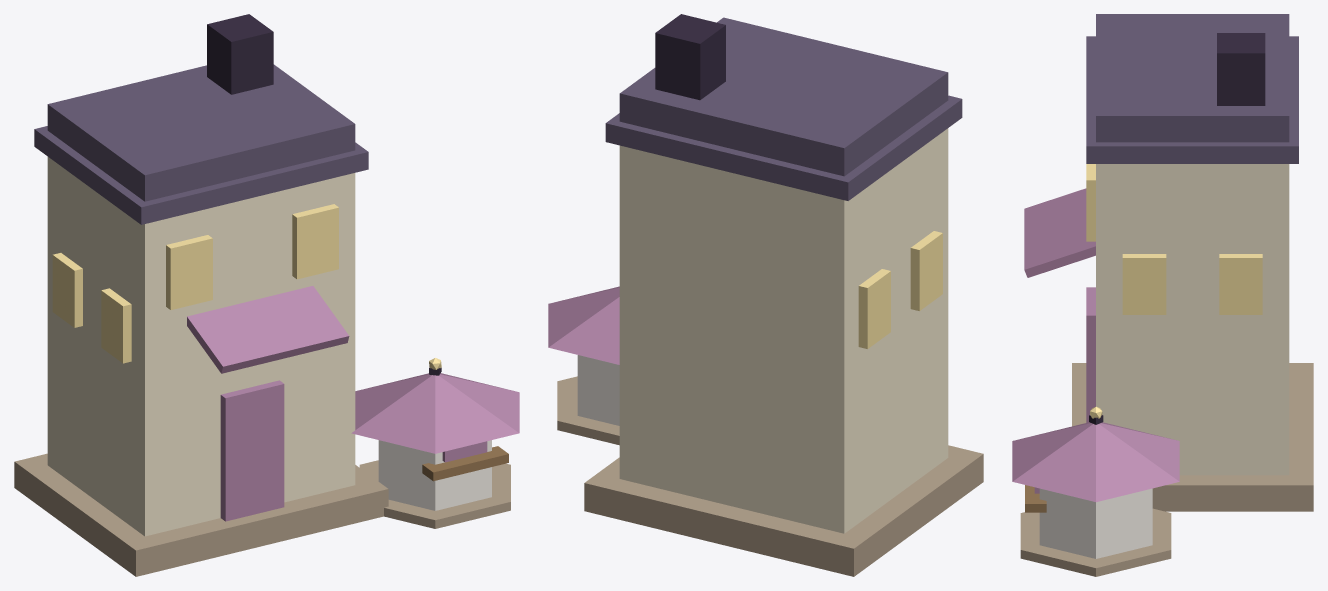
The model's file is city-landmark-s2b.glb.
3 views of the same model, side by side, from view 1: azimuth 30°, elevation 25°; view 2: azimuth 150°, elevation 25°; view 3: azimuth 270°, elevation 25° (orthographic). The views are drawn at different scales.
Parts seen in each view (by area): view 1: city-landmark-s2b; view 2: city-landmark-s2b; view 3: city-landmark-s2b.
Part boxes in pixels (<box>): city-landmark-s2b: <box>14,14,519,576</box>; city-landmark-s2b: <box>548,14,983,576</box>; city-landmark-s2b: <box>1012,14,1313,576</box>.
Bounding box in the file's own units: 0.94 × 1 × 0.6232.
